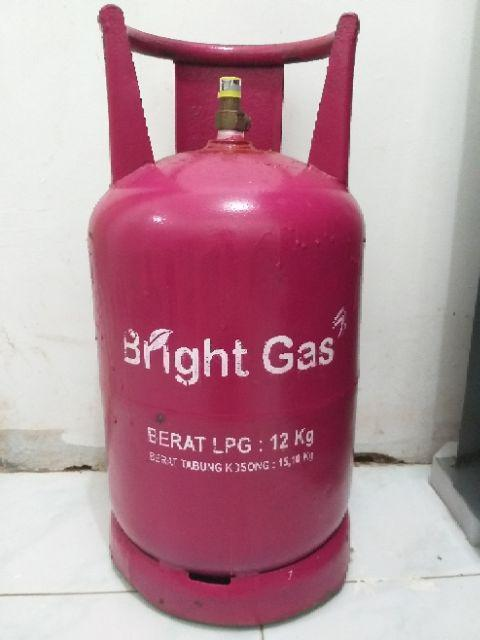bright_gas: (88, 4, 366, 630)
